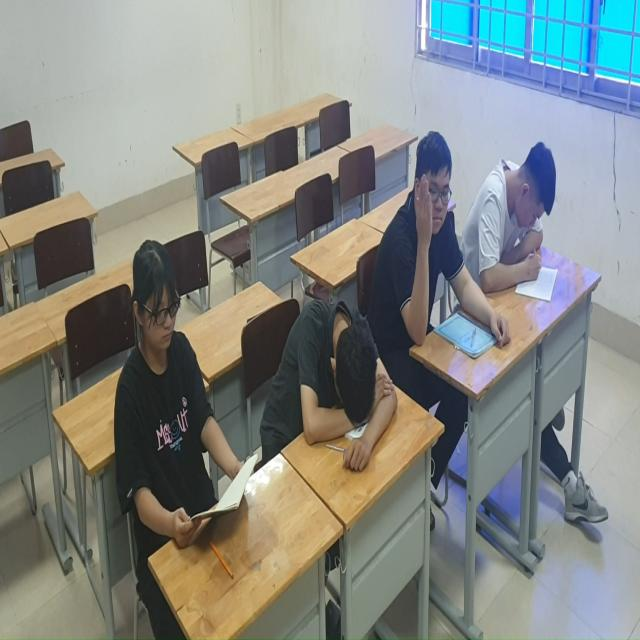raise_hand: (399, 127, 461, 341)
read: (111, 235, 253, 575), (474, 138, 563, 318)
sleep: (267, 287, 400, 476)
